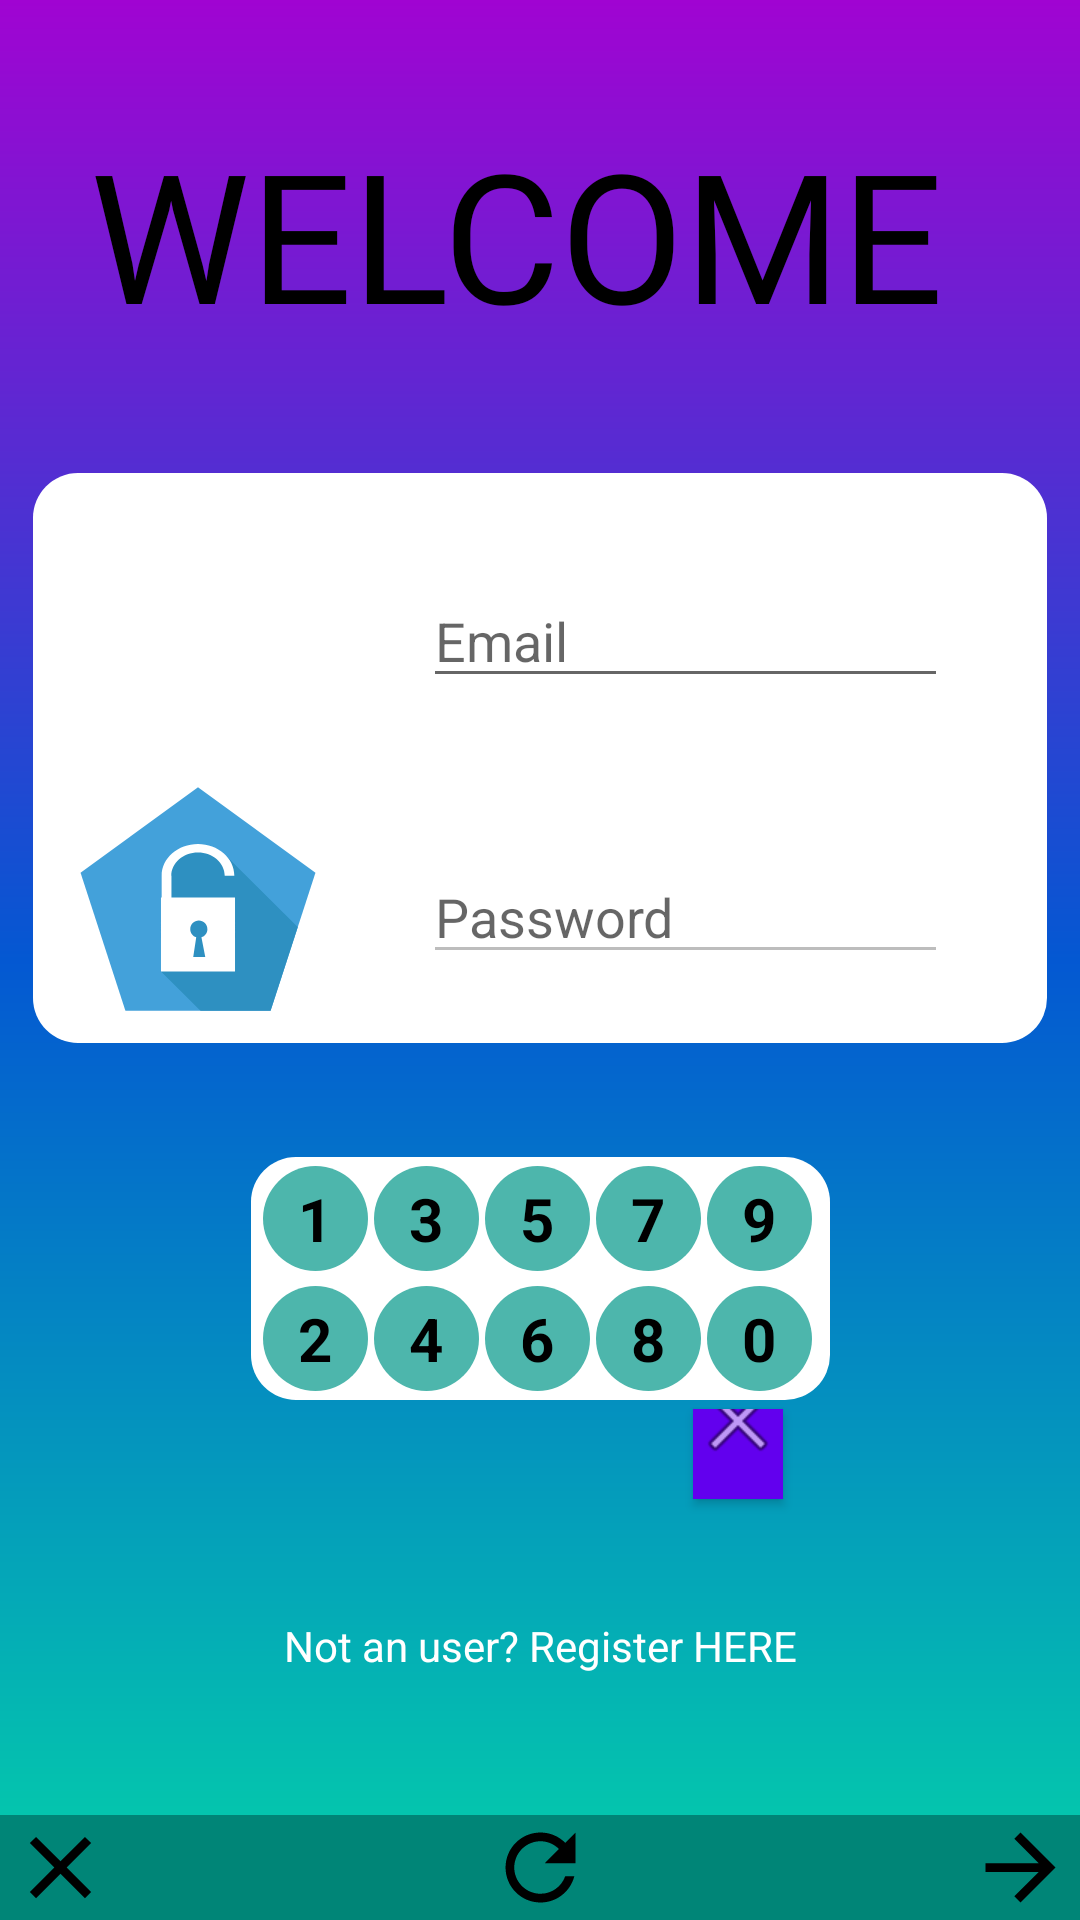

Locate icon controls on the screen. Image size 1080 x 1920, boxes as (x1, y1, x2, y2).
lock: (80, 787, 316, 1011)
